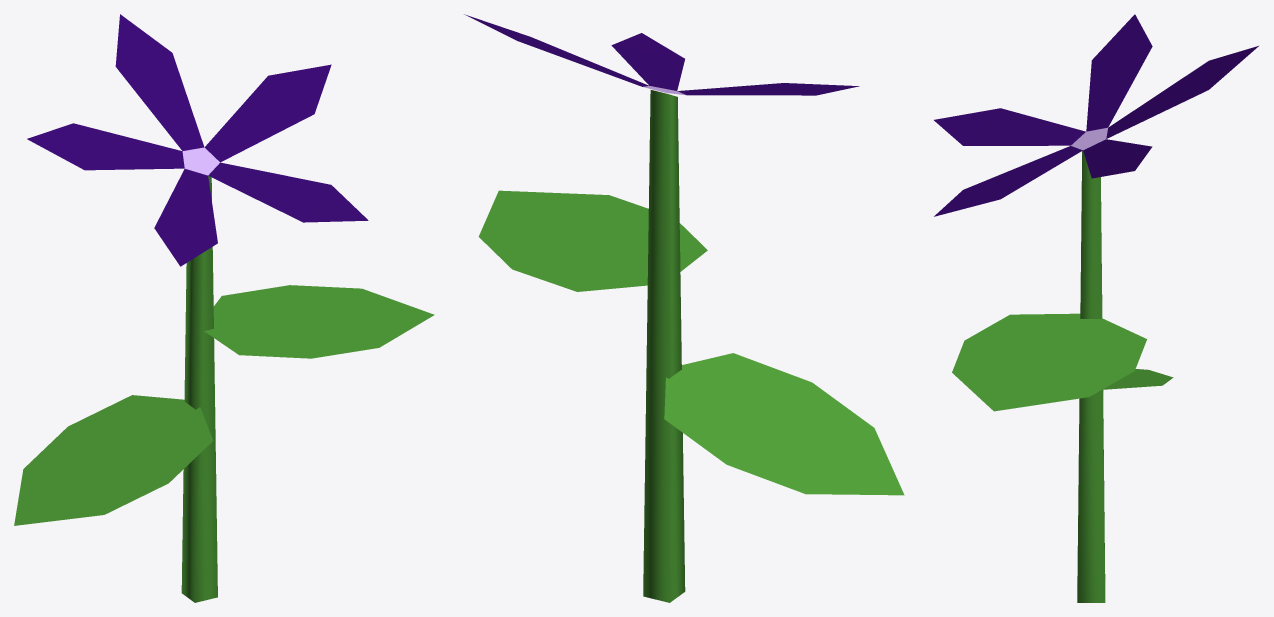
Rendered from Flower_25.fbx.
3 views of the same model, side by side, from view 1: azimuth 30°, elevation 25°; view 2: azimuth 150°, elevation 25°; view 3: azimuth 270°, elevation 25° (orthographic). The views are drawn at different scales.
Parts seen in each view (by area): view 1: Flower_25; view 2: Flower_25; view 3: Flower_25.
Boxes of the visible parts, x1=… form: Flower_25: x1=14, y1=14, x2=434, y2=602; Flower_25: x1=464, y1=14, x2=904, y2=602; Flower_25: x1=934, y1=14, x2=1258, y2=602.
Size of the model in its own units: 45.81 by 59.39 by 31.85.
